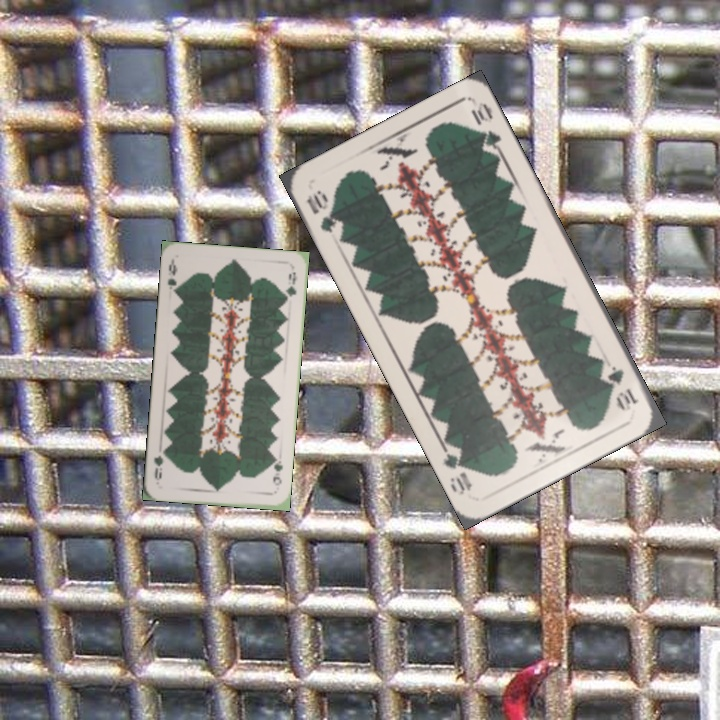G10: (603, 362, 642, 414), (302, 186, 342, 236)
G9: (164, 256, 181, 297), (269, 453, 285, 488)
